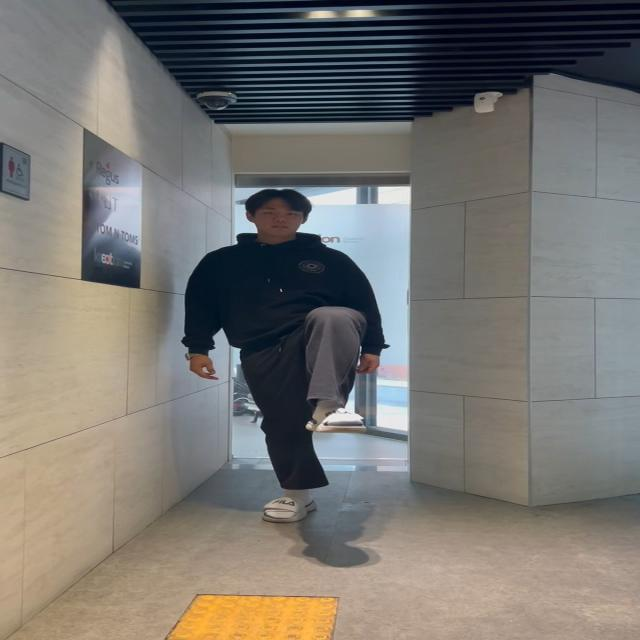knee: (280, 302, 387, 438)
